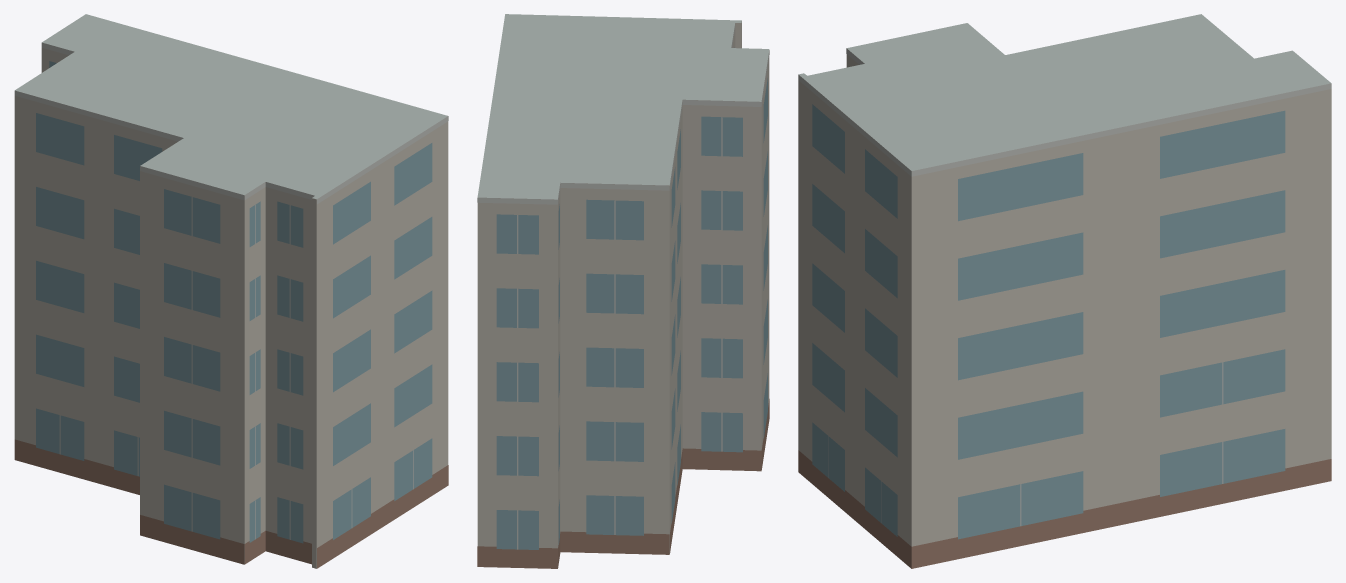
Rendered from survey-upis-32717585.glb.
3 views of the same model, side by side, from view 1: azimuth 30°, elevation 25°; view 2: azimuth 150°, elevation 25°; view 3: azimuth 270°, elevation 25° (orthographic). The views are drawn at different scales.
Parts seen in each view (by area): view 1: survey-upis-32717585.tmp; view 2: survey-upis-32717585.tmp; view 3: survey-upis-32717585.tmp.
Boxes of the visible parts, bbox=[...] form: survey-upis-32717585.tmp: bbox=[14, 14, 448, 568]; survey-upis-32717585.tmp: bbox=[477, 14, 769, 568]; survey-upis-32717585.tmp: bbox=[798, 14, 1331, 568].
Bounding box in the file's own units: 14.67 × 17.3 × 21.03.
